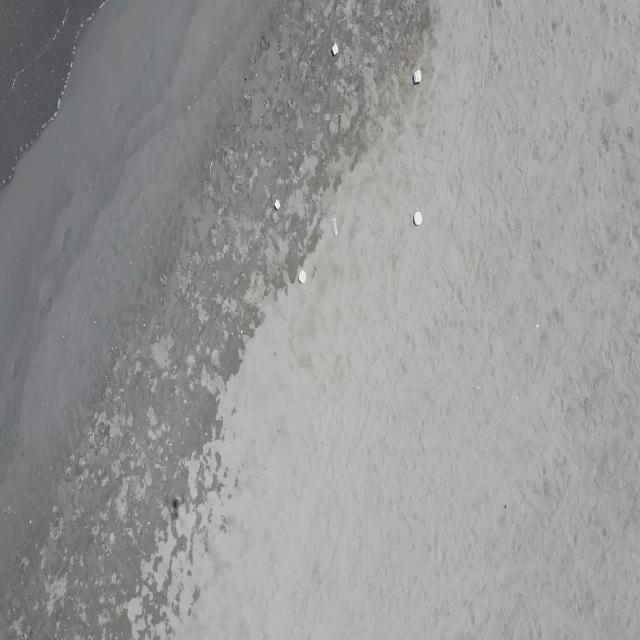take-away-containers: (413, 209, 423, 229), (413, 68, 422, 85), (330, 42, 339, 58), (298, 270, 306, 284), (274, 198, 281, 212)
takeaway-cup: (330, 217, 340, 237)
